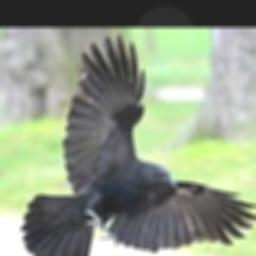Crow: (20, 33, 256, 256)
